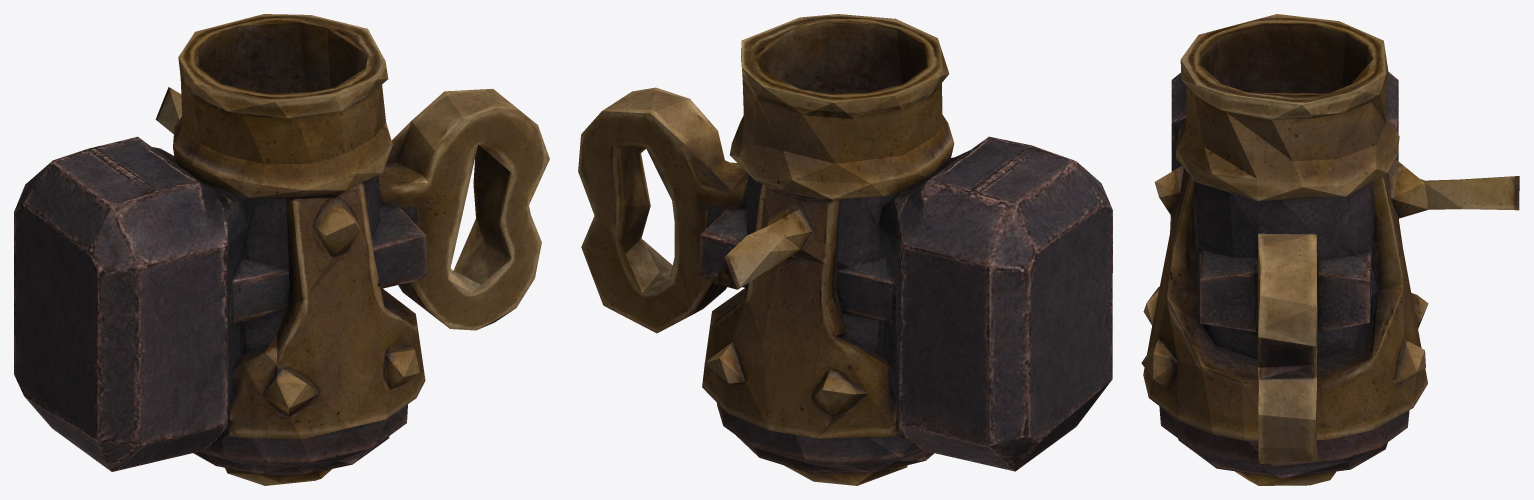
The picture shows the model from 3 angles, left to right: view 1: azimuth 30°, elevation 25°; view 2: azimuth 150°, elevation 25°; view 3: azimuth 270°, elevation 25°; orthographic projection.
Parts seen in each view (by area): view 1: geometry_0; view 2: geometry_0; view 3: geometry_0.
Part boxes in pixels (x1,y1,x2,y2): geometry_0: [14, 14, 549, 485]; geometry_0: [578, 14, 1112, 485]; geometry_0: [1141, 14, 1519, 485].
Bounding box in the file's own units: 1 × 0.8216 × 0.6793.
1 material, 1 textured.
